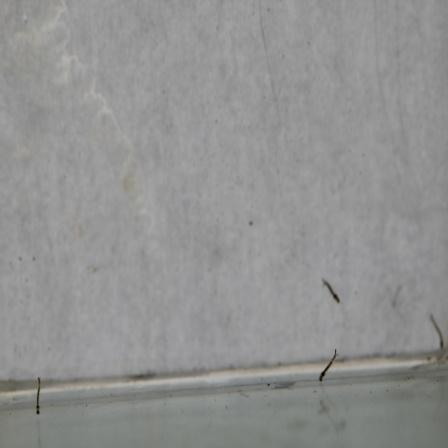Jentik-Nyamuk: (316, 346, 341, 387), (32, 373, 44, 419)
